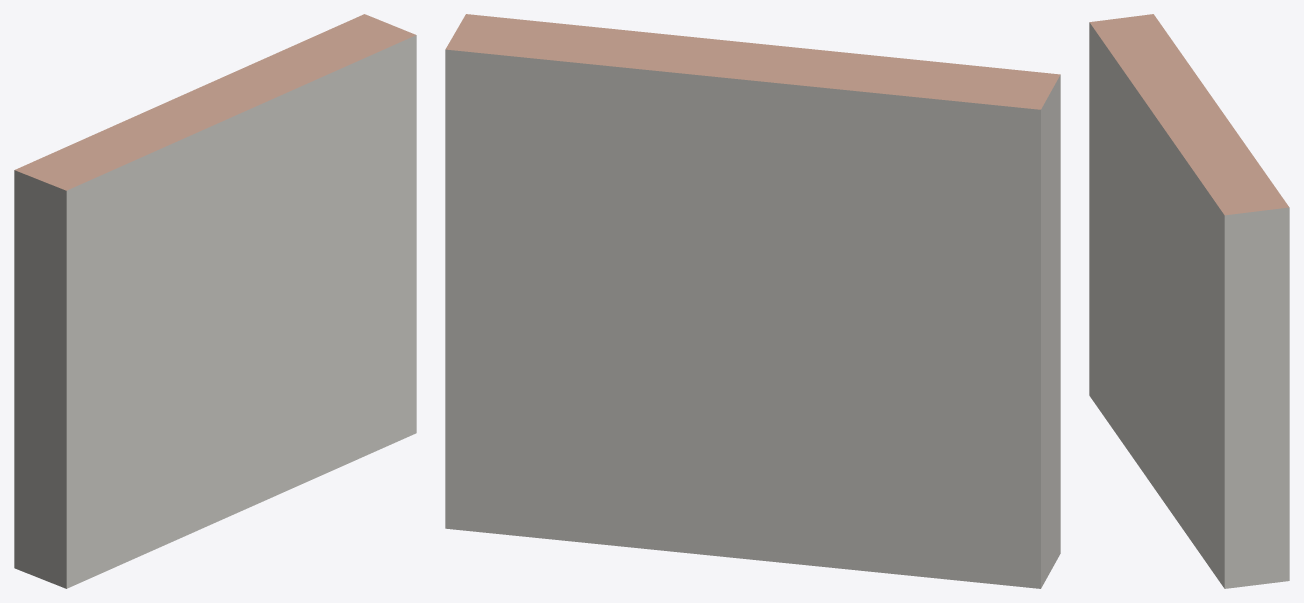
The model's file is gridID_64.dae.
3 renders of one model, left to right at view 1: azimuth 30°, elevation 25°; view 2: azimuth 150°, elevation 25°; view 3: azimuth 270°, elevation 25°, orthographic. The views are drawn at different scales.
Visible parts, largest first — view 1: model_gridID_64_w376352634_001; view 2: model_gridID_64_w376352634_001; view 3: model_gridID_64_w376352634_001.
Part boxes in pixels (left/top/right/bottom): model_gridID_64_w376352634_001: left=14, top=14, right=416, bottom=588; model_gridID_64_w376352634_001: left=445, top=14, right=1060, bottom=588; model_gridID_64_w376352634_001: left=1089, top=14, right=1289, bottom=588.
Size of the model in its own units: 8.67 by 3.64 by 7.5.
